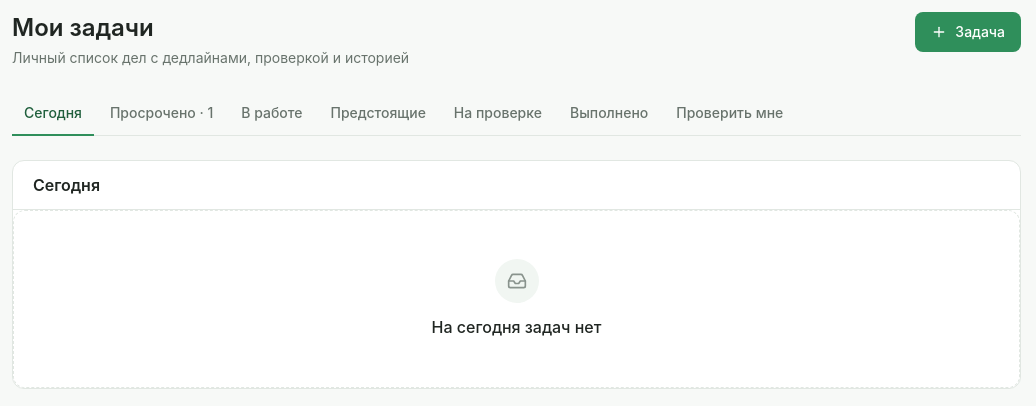
it: задачи сотрудника › «Мои задачи» показывает разделы с количеством
Click the tab "Просрочено · 1": x=162, y=114 left=98, top=92, right=225, bottom=136
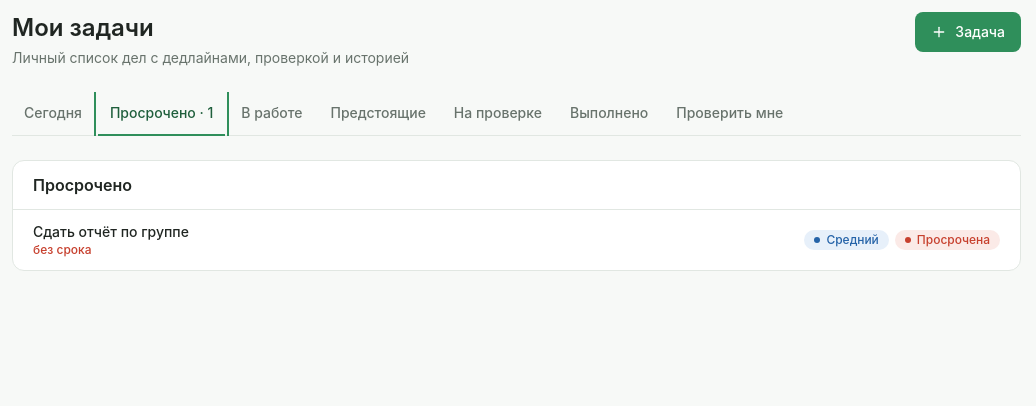
Check: the text "Сдать отчёт по группе" is shown, box left=33, top=222, right=189, bottom=242
